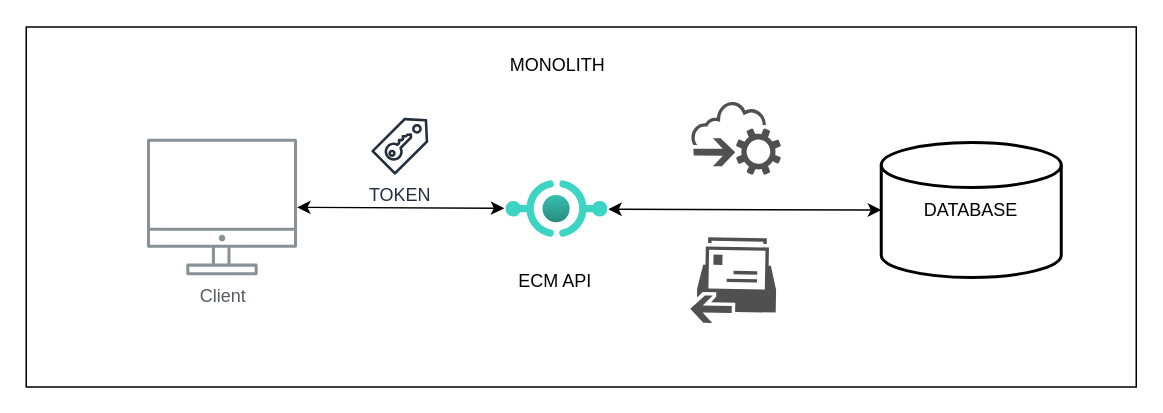
Some shapes in this 1163 by 413 pixel diagram are drawn without their labels. The centre of each missing label's shape, as x and y in pixels:
FILE: point 732,279
REQUEST: point 735,137
